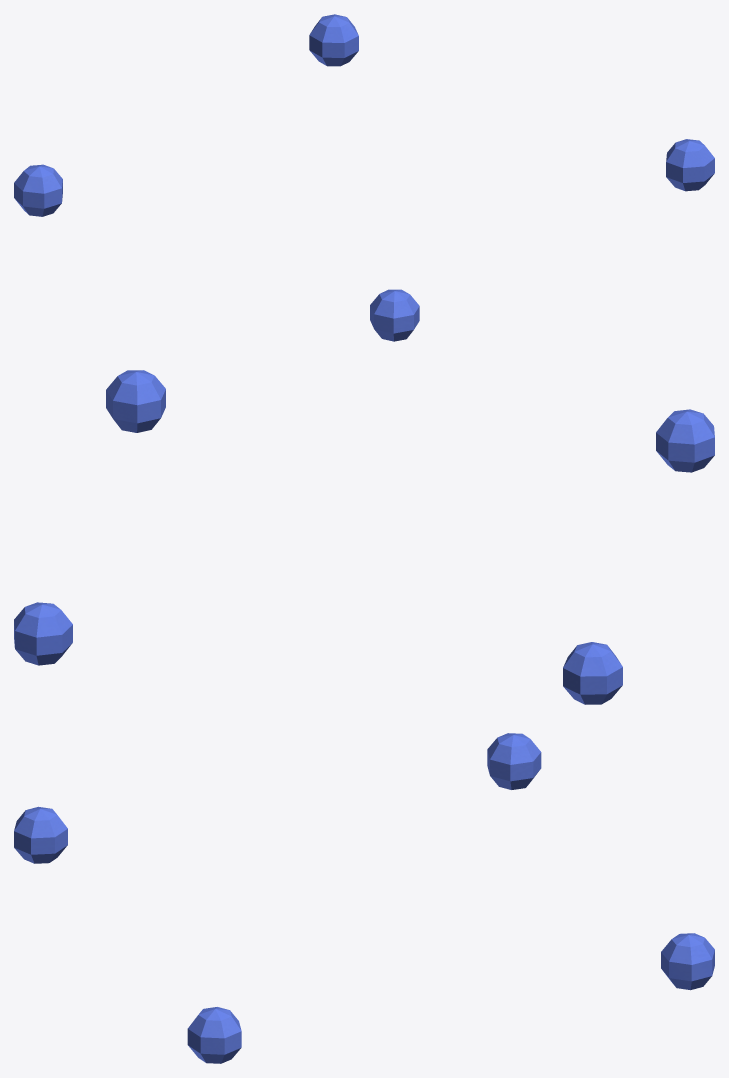
File: BILLIE_05.glb
3 views of the same model, one above another, from view 1: azimuth 30°, elevation 25°; view 2: azimuth 150°, elevation 25°; view 3: azimuth 270°, elevation 25° (orthographic). The views are drawn at different scales.
Bounding box in the file's own units: 0.1261 × 0.0105 × 0.1261.
Materials: 1 (1 with a texture image).
